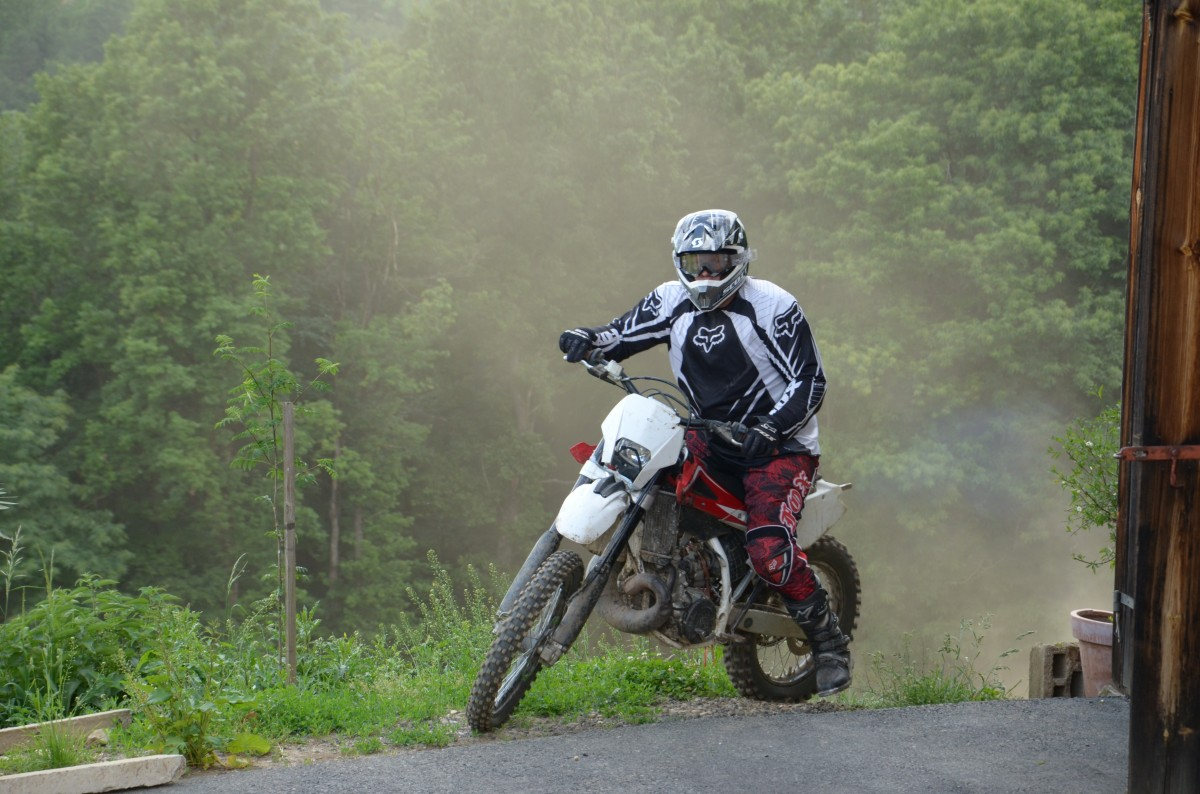helmet: (590, 200, 822, 560)
